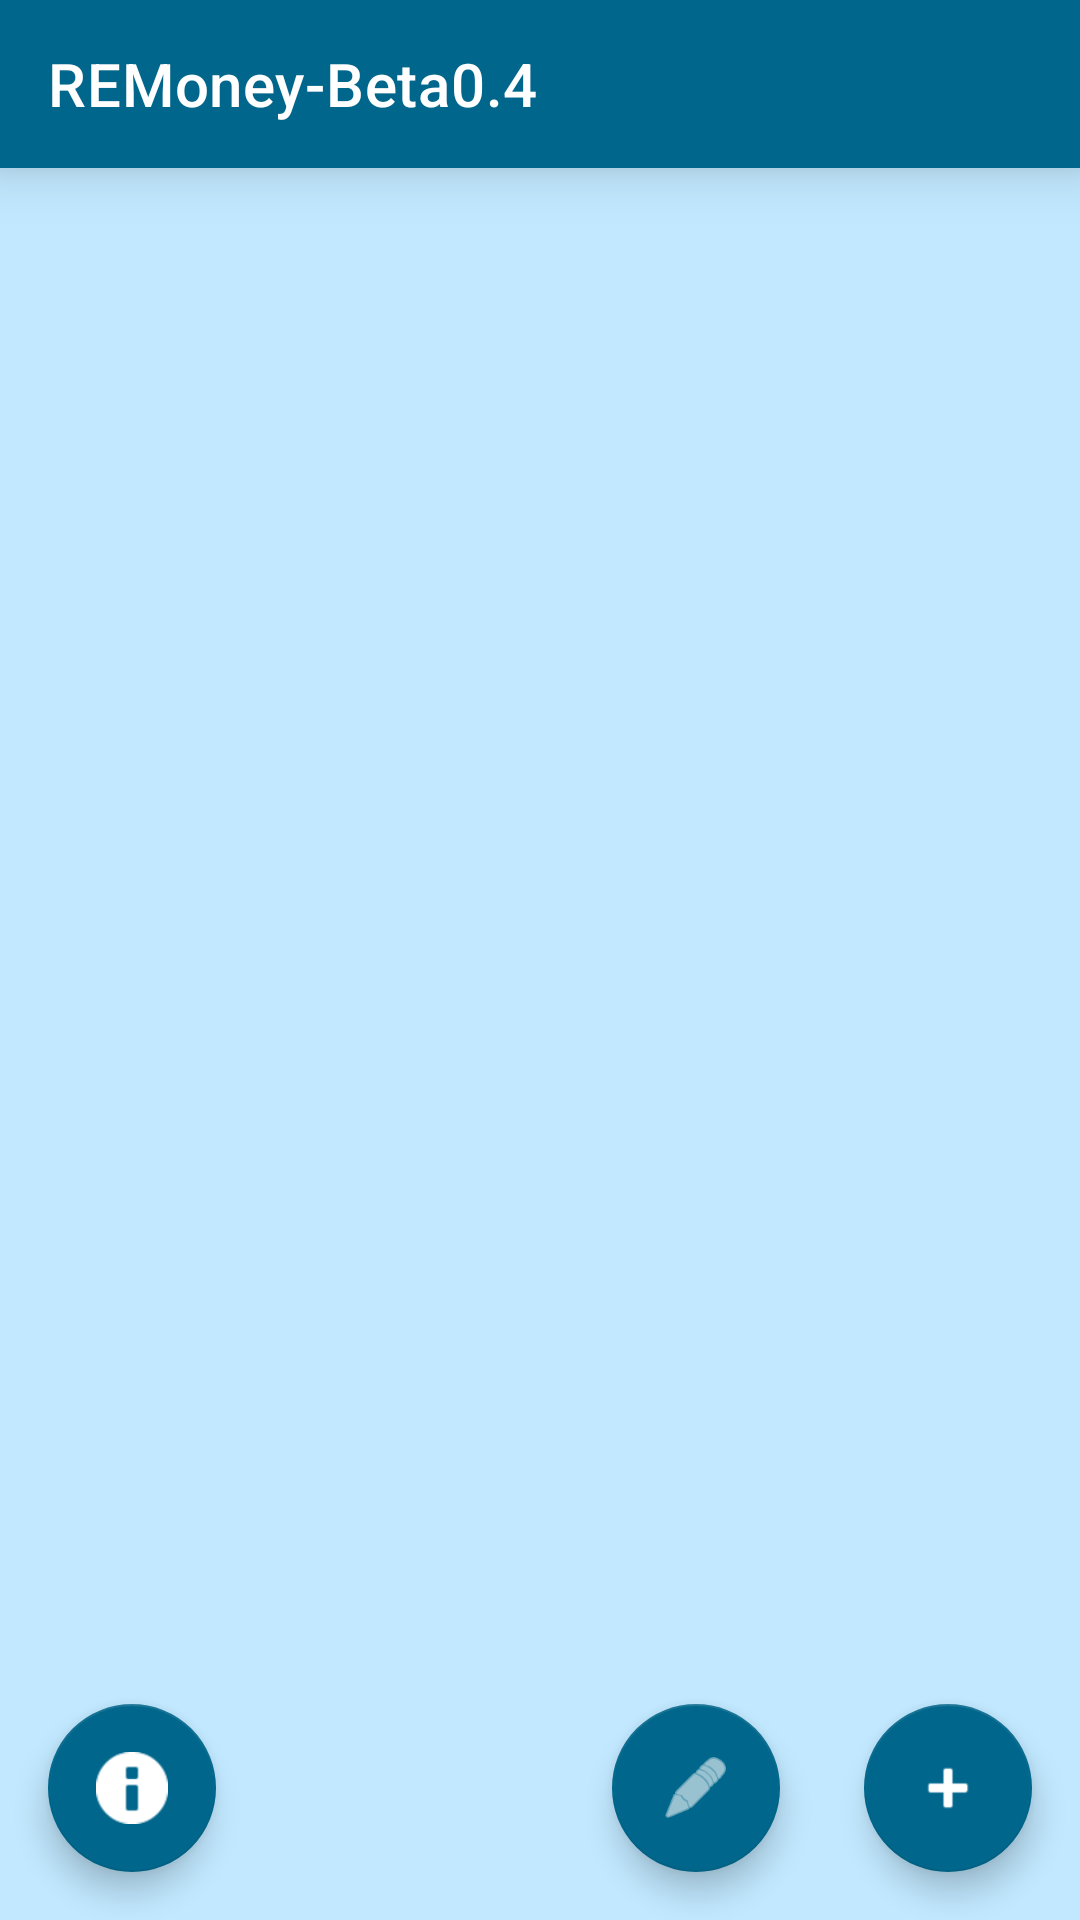

Icons on this 1080px×1920px Android screen, each with the point to tap as [x,y]:
add: [948,1788]
edit: [696,1788]
info: [132,1788]
